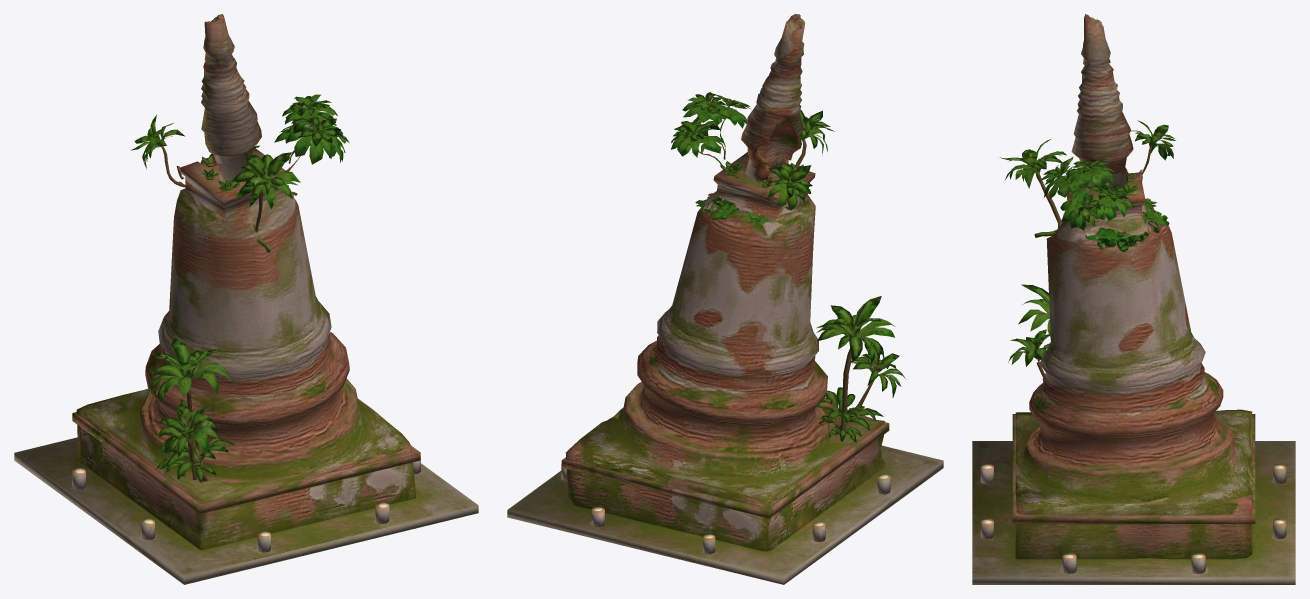
The model's file is chedi_ruin.glb.
3 views of the same model, side by side, from view 1: azimuth 30°, elevation 25°; view 2: azimuth 150°, elevation 25°; view 3: azimuth 270°, elevation 25° (orthographic). The views are drawn at different scales.
Parts seen in each view (by area): view 1: Body; view 2: Body; view 3: Body.
Boxes of the visible parts, x1,y1,x2,y2 form: Body: (14,14,478,584); Body: (507,14,943,584); Body: (972,14,1295,584).
Bounding box in the file's own units: 8.58 × 14 × 8.58.
Materials: 1 (1 with a texture image).
